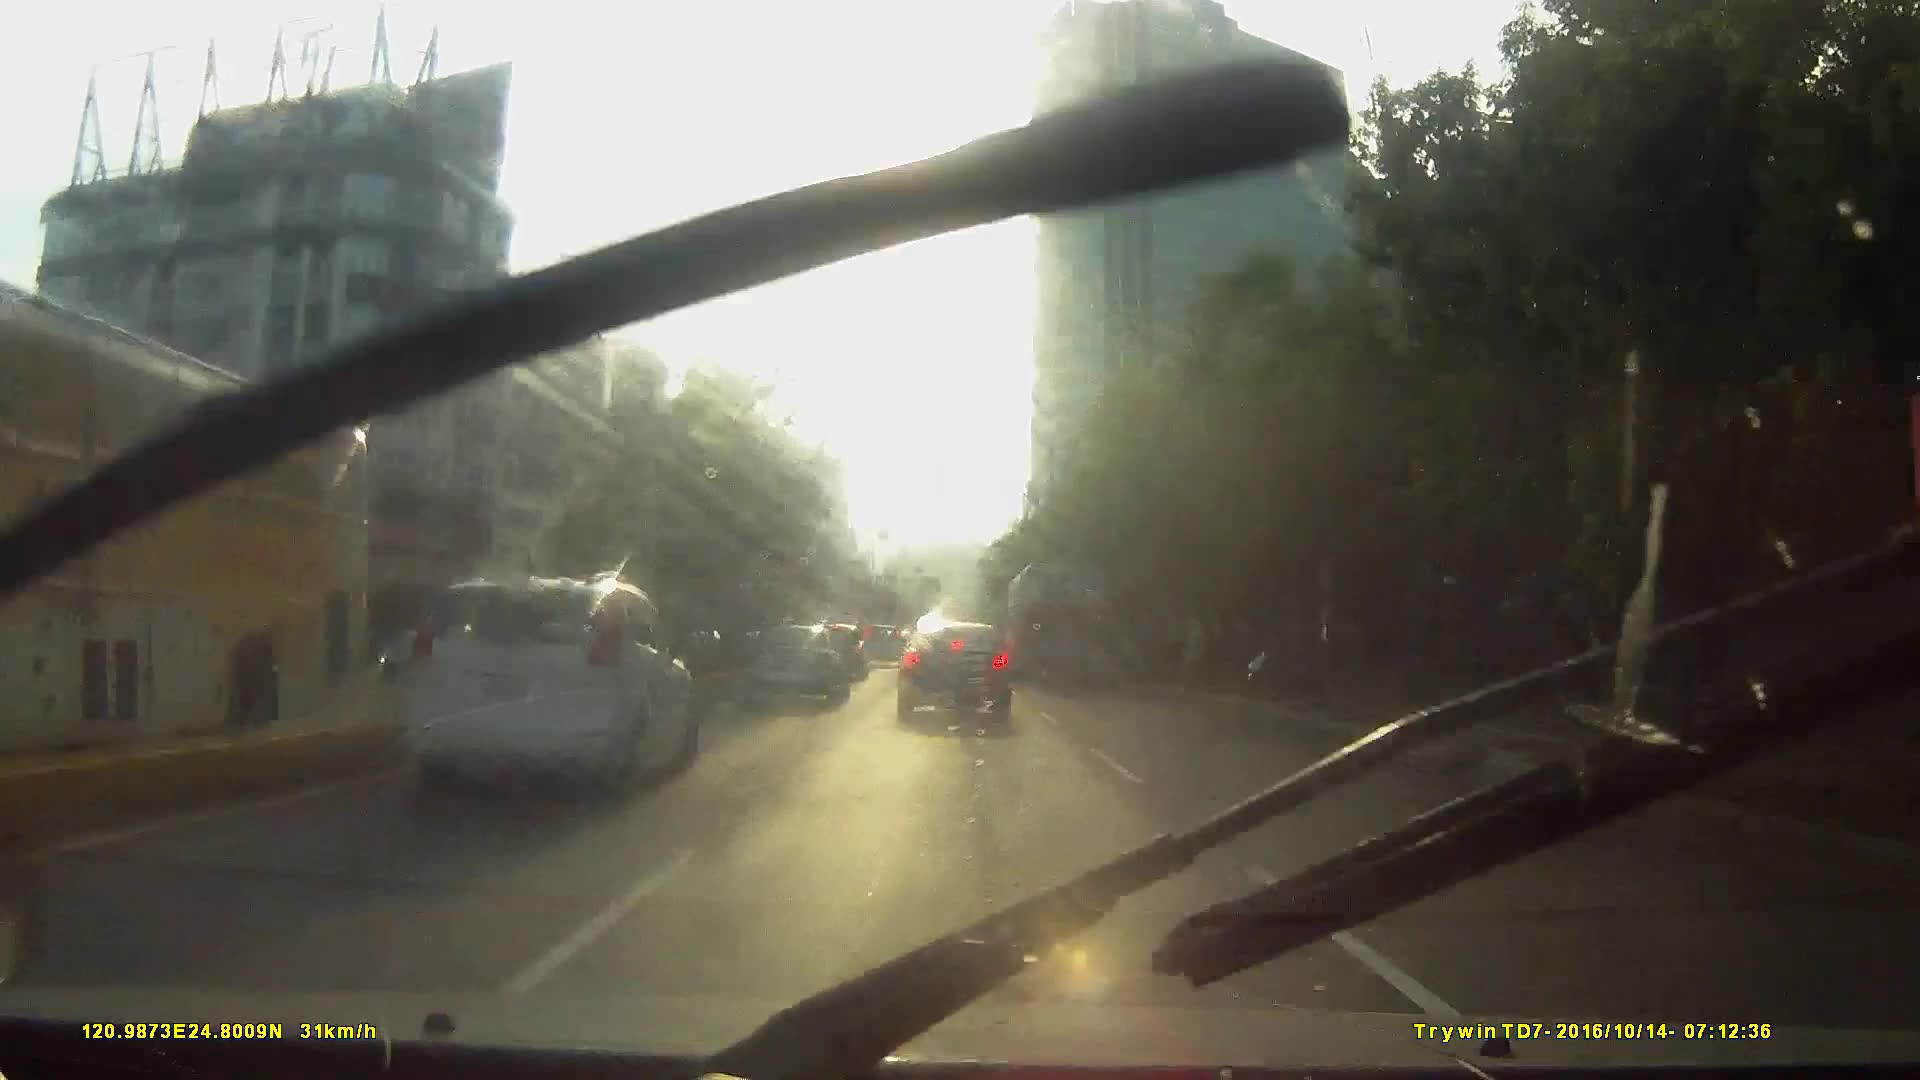pedestrian: (1552, 584, 1624, 733)
vehicle: (1, 283, 390, 801), (250, 556, 684, 868), (398, 567, 696, 796), (1007, 559, 1112, 686), (892, 614, 1010, 723), (739, 620, 848, 704), (854, 617, 903, 666)
